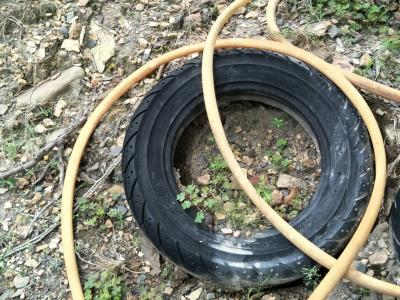tire: (115, 45, 379, 292)
